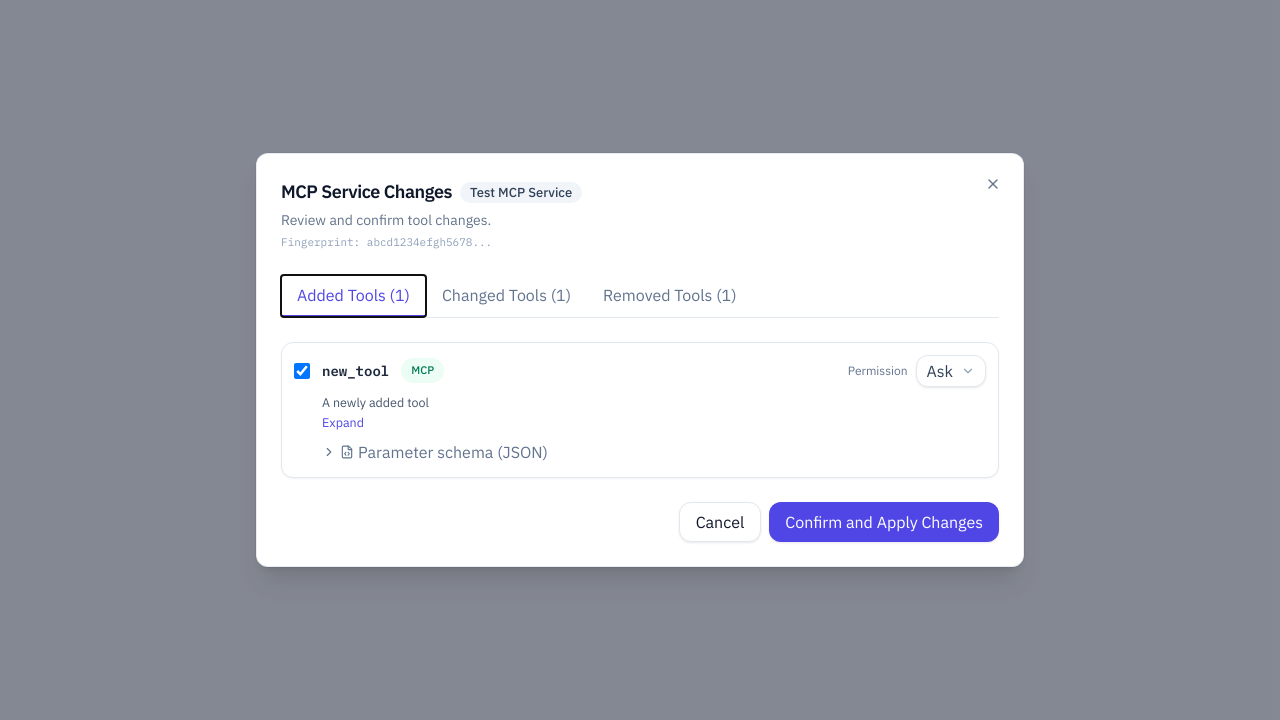
Test case: McpChangesDialog › switches to removed tools tab and warns about impacted agents
Click the tab "Removed Tools (1)": (670, 296) [587,274,753,316]
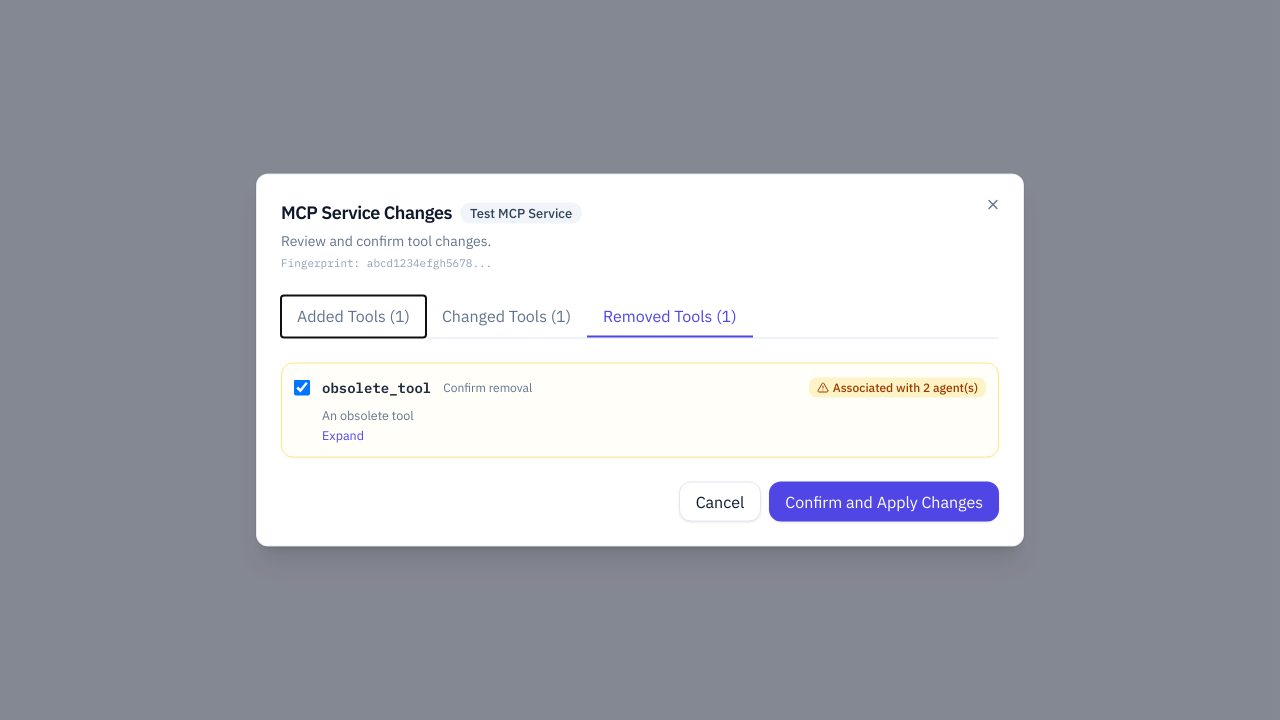
Now the text "obsolete_tool" is shown, box [322,377,431,397]
Now the text "Associated with 2 agent(s)" is shown, box [809,377,986,397]
